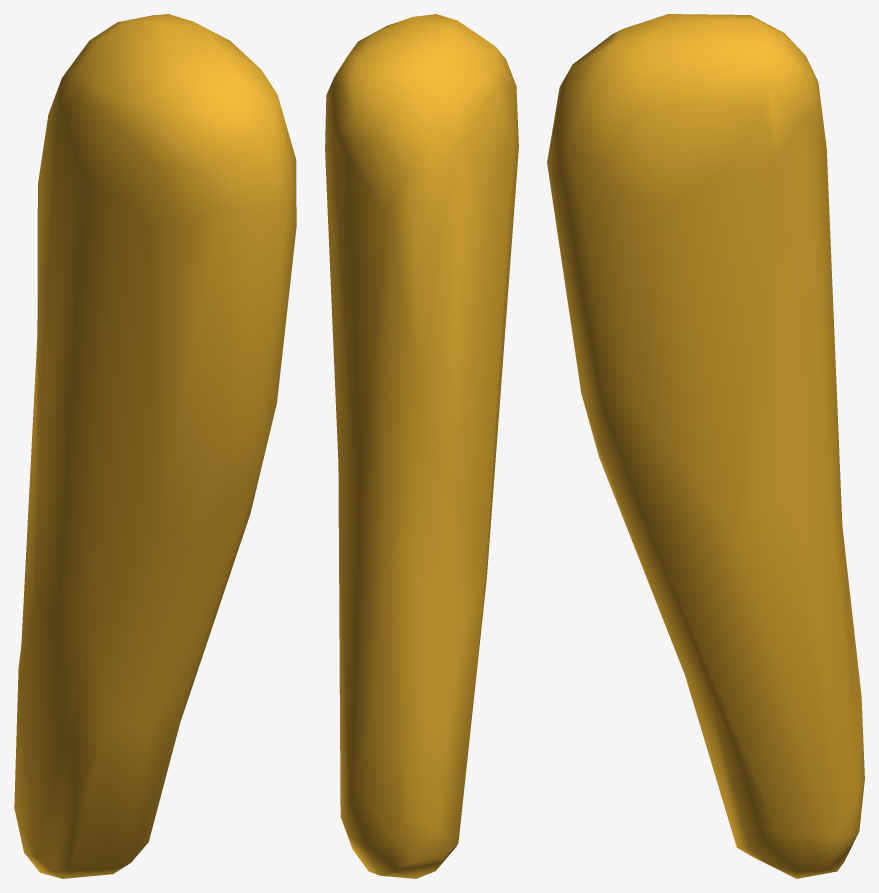
The model's file is nervoso-lacrimal-sac-r.glb.
3 views of the same model, side by side, from view 1: azimuth 30°, elevation 25°; view 2: azimuth 150°, elevation 25°; view 3: azimuth 270°, elevation 25° (orthographic). The views are drawn at different scales.
Visible parts, largest first — view 1: Lacrimal sac.r; view 2: Lacrimal sac.r; view 3: Lacrimal sac.r.
Boxes of the visible parts, bbox=[...] form: Lacrimal sac.r: bbox=[14, 14, 296, 878]; Lacrimal sac.r: bbox=[325, 14, 518, 878]; Lacrimal sac.r: bbox=[547, 14, 864, 878].
Size of the model in its own units: 0.004 by 0.0184 by 0.0061.
